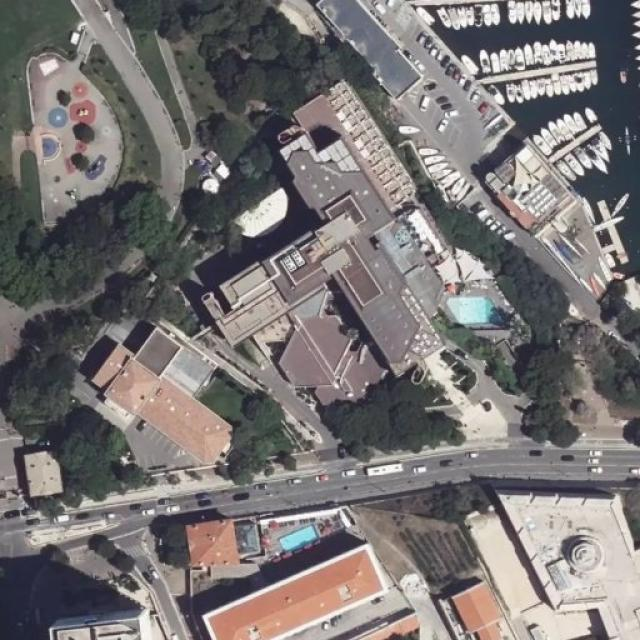immeuble: (215, 184, 441, 412), (76, 302, 238, 470), (212, 526, 416, 640), (40, 595, 169, 640), (428, 582, 518, 640), (187, 499, 241, 569)
piscine: (441, 287, 498, 333), (265, 518, 323, 562)
